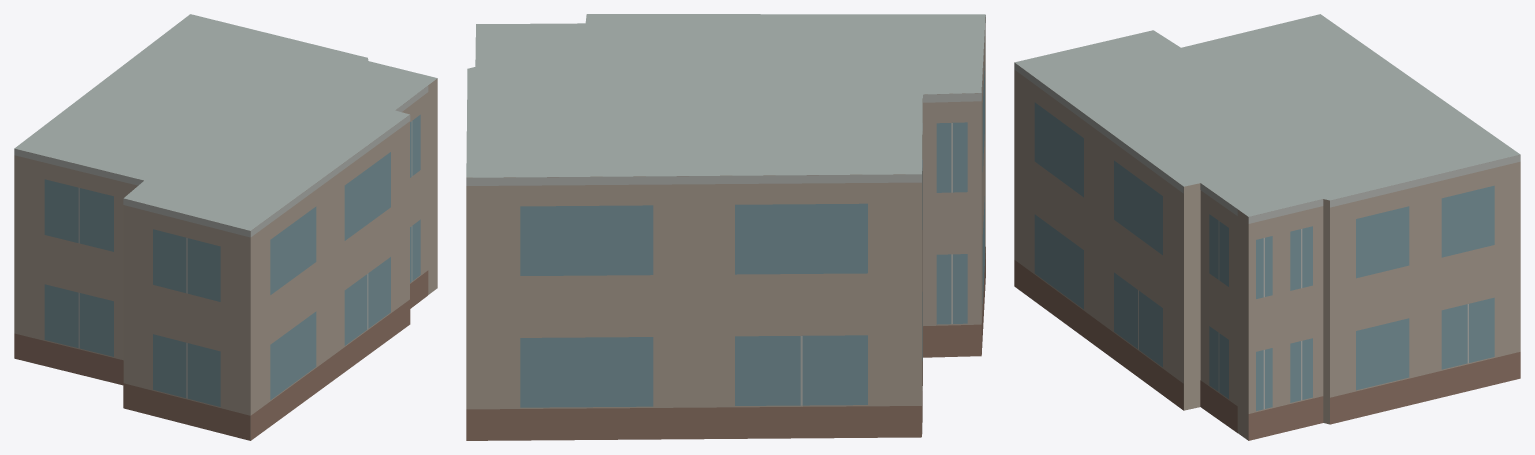
Rendered from survey-upis-32616193.glb.
3 renders of one model, left to right at view 1: azimuth 30°, elevation 25°; view 2: azimuth 150°, elevation 25°; view 3: azimuth 270°, elevation 25°, orthographic. The views are drawn at different scales.
Parts seen in each view (by area): view 1: survey-upis-32616193.tmp; view 2: survey-upis-32616193.tmp; view 3: survey-upis-32616193.tmp.
Boxes of the visible parts, x1,y1,x2,y2 form: survey-upis-32616193.tmp: [14, 14, 437, 440]; survey-upis-32616193.tmp: [466, 14, 985, 440]; survey-upis-32616193.tmp: [1014, 14, 1520, 440].
Bounding box in the file's own units: 14.97 × 7.7 × 15.78.
